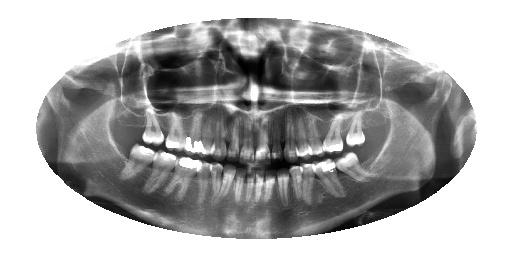i10healthy: (231, 165, 247, 208)
i11healthy: (215, 160, 237, 207)
i12healthy: (204, 157, 225, 209)
i13healthy: (190, 154, 214, 210)
i14healthy: (167, 152, 206, 210)
i15healthy: (143, 144, 179, 200)
i16healthy: (115, 137, 158, 185)
i1loss: (350, 139, 385, 173)
i2healthy: (334, 149, 379, 188)
i3healthy: (307, 155, 349, 202)
i4healthy: (295, 159, 317, 205)
i5healthy: (287, 160, 307, 207)
i6healthy: (275, 165, 294, 209)
i7healthy: (261, 164, 278, 209)
i8healthy: (251, 163, 266, 209)
i9healthy: (242, 164, 257, 209)
u10healthy: (226, 106, 242, 164)
u11healthy: (207, 106, 229, 164)
u12healthy: (197, 101, 217, 160)
u13healthy: (180, 99, 205, 157)
u14healthy: (162, 105, 190, 155)
u15healthy: (138, 102, 167, 148)
u3healthy: (321, 111, 345, 155)
u4healthy: (300, 111, 326, 159)
u5healthy: (290, 105, 314, 160)
u6healthy: (281, 102, 301, 163)
u7chipped: (269, 115, 284, 165)
u8healthy: (254, 109, 272, 167)
u9healthy: (239, 112, 257, 165)
ui2healthy: (341, 105, 369, 148)
